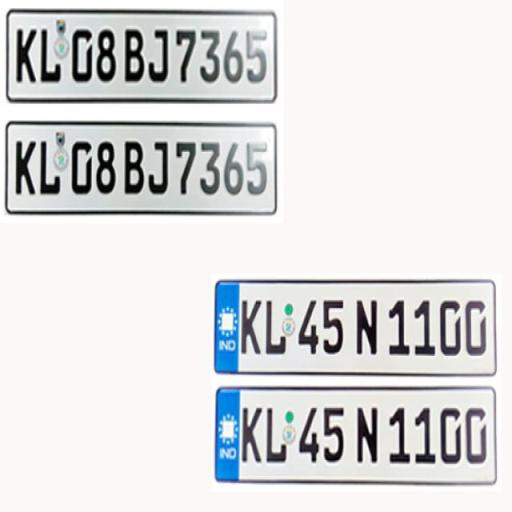number plate: (215, 386, 498, 488), (227, 281, 493, 372), (12, 14, 271, 105), (255, 184, 309, 186), (280, 171, 308, 173)
